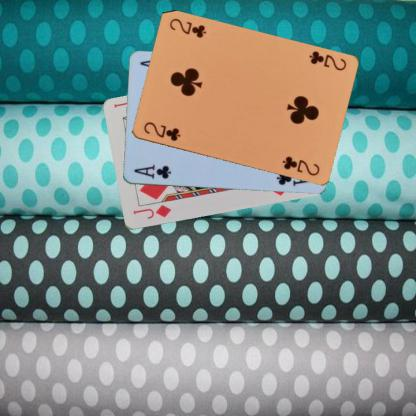2c: (140, 119, 182, 143), (306, 49, 347, 72)
Ac: (131, 162, 172, 180)
Jd: (130, 202, 172, 220)
